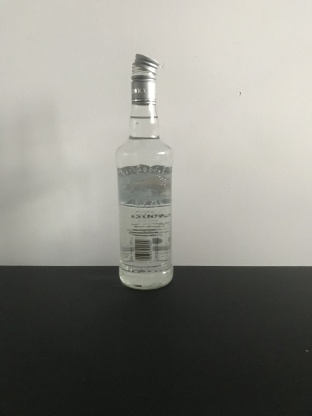nakretka: (129, 51, 160, 105)
